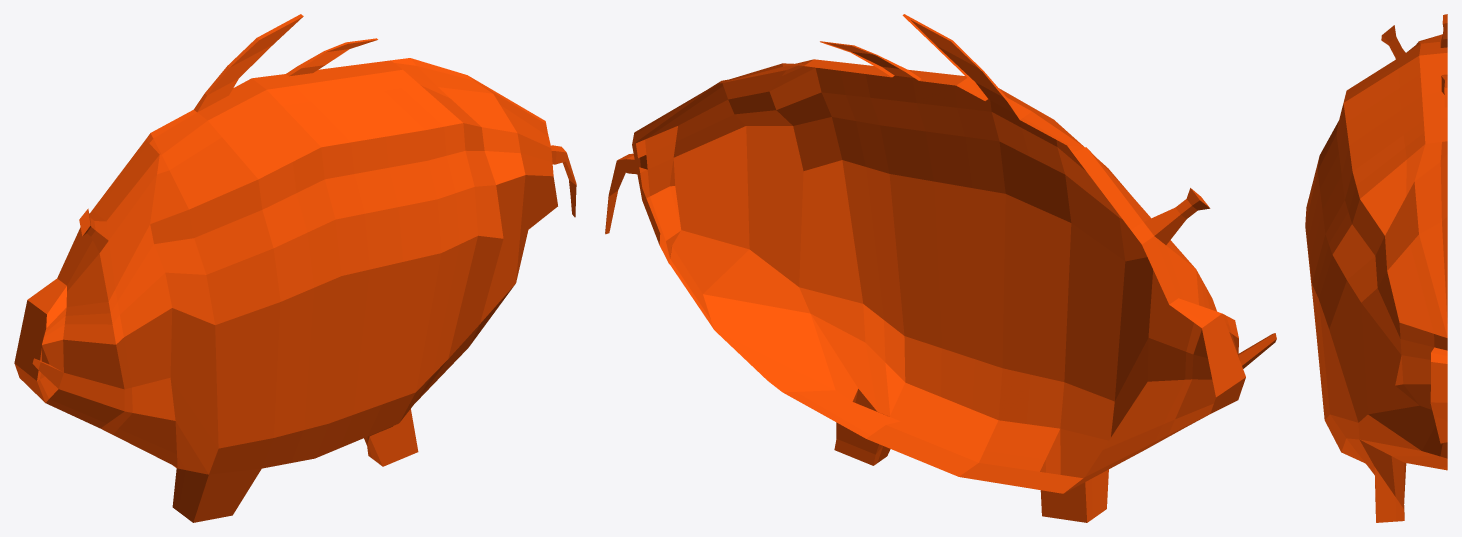
The model's file is pig.glb.
3 views of the same model, side by side, from view 1: azimuth 30°, elevation 25°; view 2: azimuth 150°, elevation 25°; view 3: azimuth 270°, elevation 25° (orthographic). The views are drawn at different scales.
Parts seen in each view (by area): view 1: Plane; view 2: Plane; view 3: Plane.
Boxes of the visible parts, x1,y1,x2,y2 form: Plane: (14, 14, 576, 522); Plane: (605, 14, 1276, 522); Plane: (1305, 14, 1447, 522).
Bounding box in the file's own units: 3.71 × 2.75 × 0.7521.
